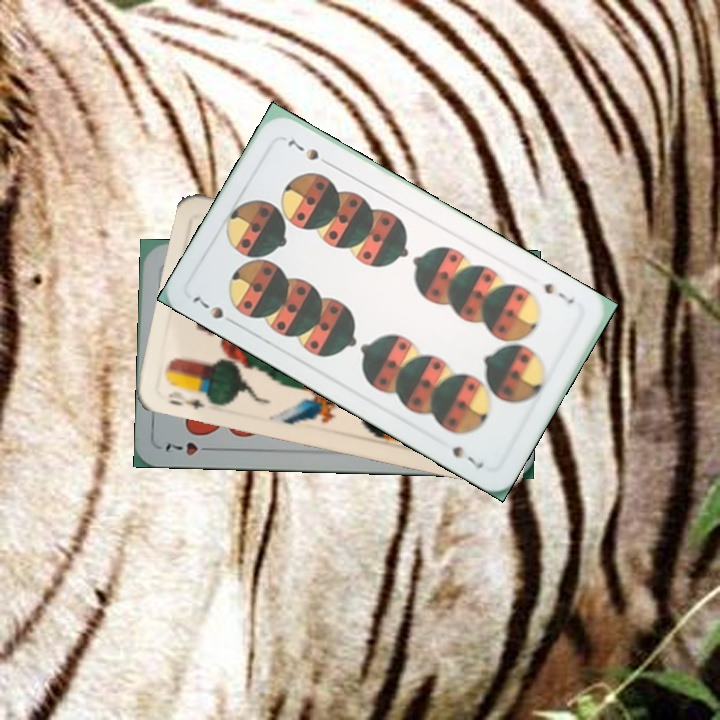EO: (164, 387, 217, 412)
H7: (162, 438, 218, 458)
S7: (188, 292, 240, 328), (540, 278, 577, 307)
